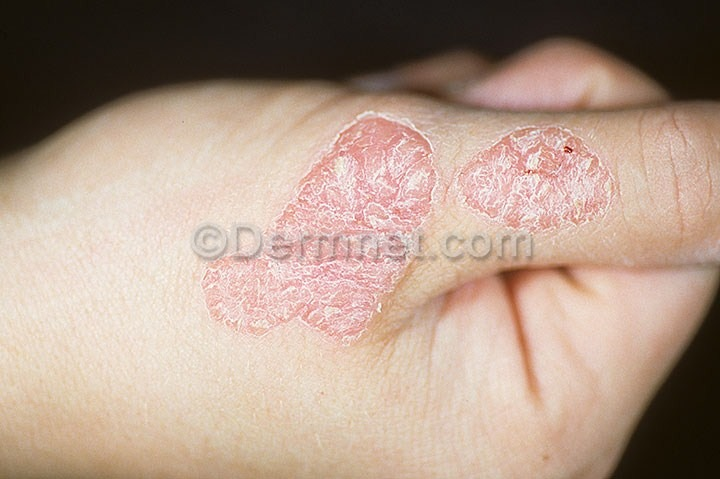Psoriasis: (201, 114, 448, 339), (455, 115, 621, 237)
